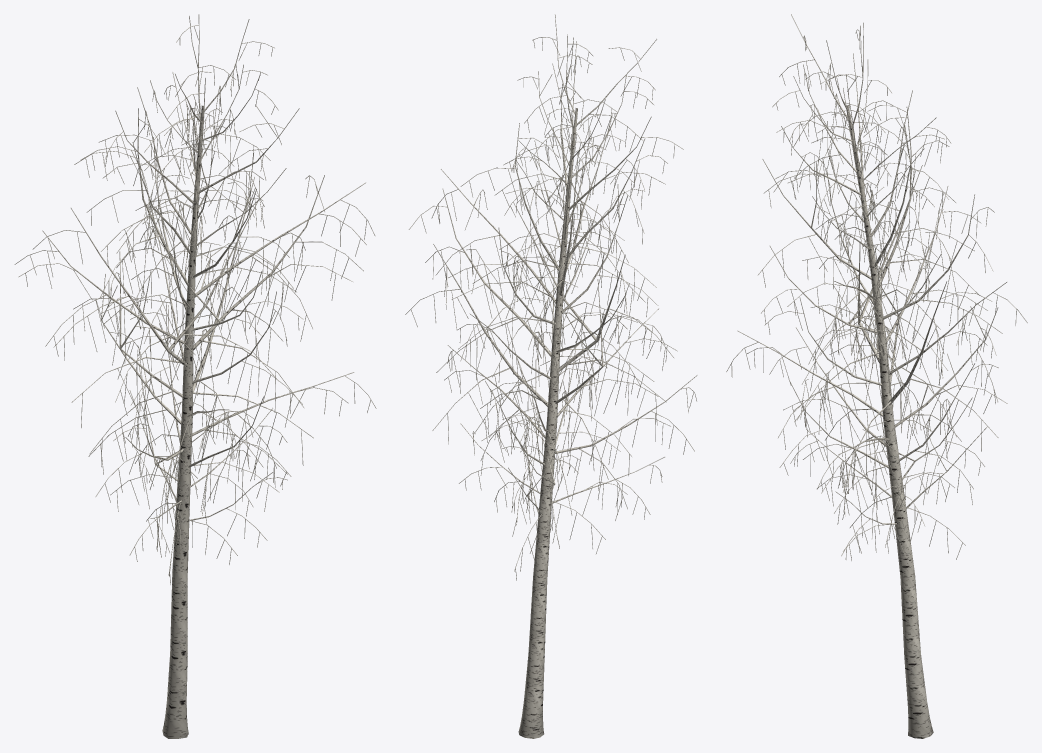
File: tree_birchBare.glb
The picture shows the model from 3 angles, left to right: view 1: azimuth 30°, elevation 25°; view 2: azimuth 150°, elevation 25°; view 3: azimuth 270°, elevation 25°; orthographic projection. The views are drawn at different scales.
Parts seen in each view (by area): view 1: plant; view 2: plant; view 3: plant.
Part boxes in pixels (bbox=[...]): plant: bbox=[14, 14, 376, 738]; plant: bbox=[405, 14, 697, 738]; plant: bbox=[726, 14, 1027, 738].
Size of the model in its own units: 6.14 by 14.6 by 5.66.
1 material, 1 textured.
